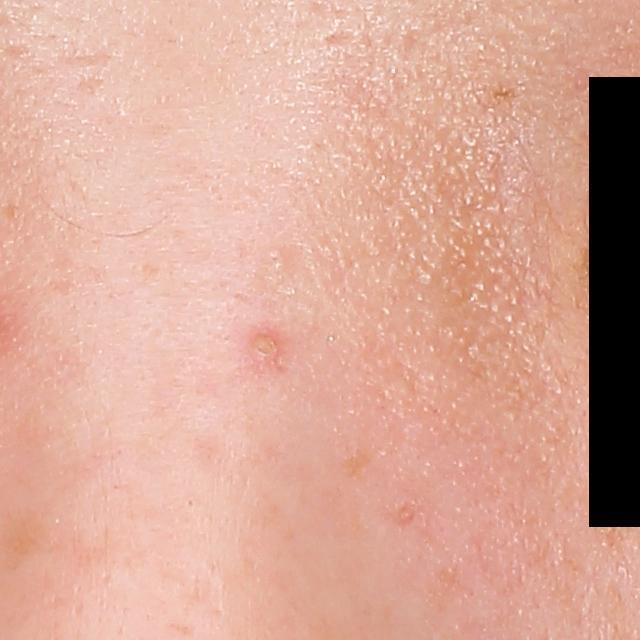melasma: (590, 496, 640, 557), (339, 448, 373, 482)
pustule: (248, 325, 291, 368)
